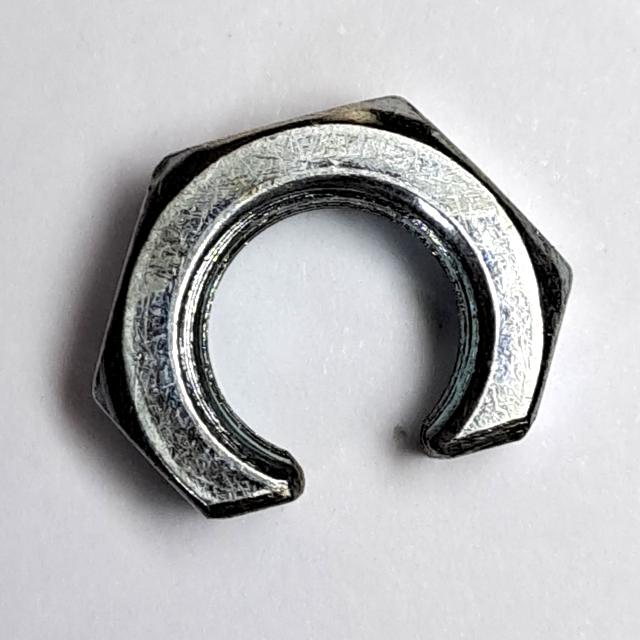Fracture: (76, 68, 586, 537)
